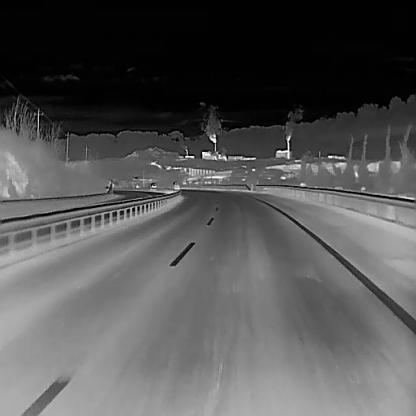car: (170, 180, 180, 190), (147, 181, 156, 190), (133, 183, 139, 189)
